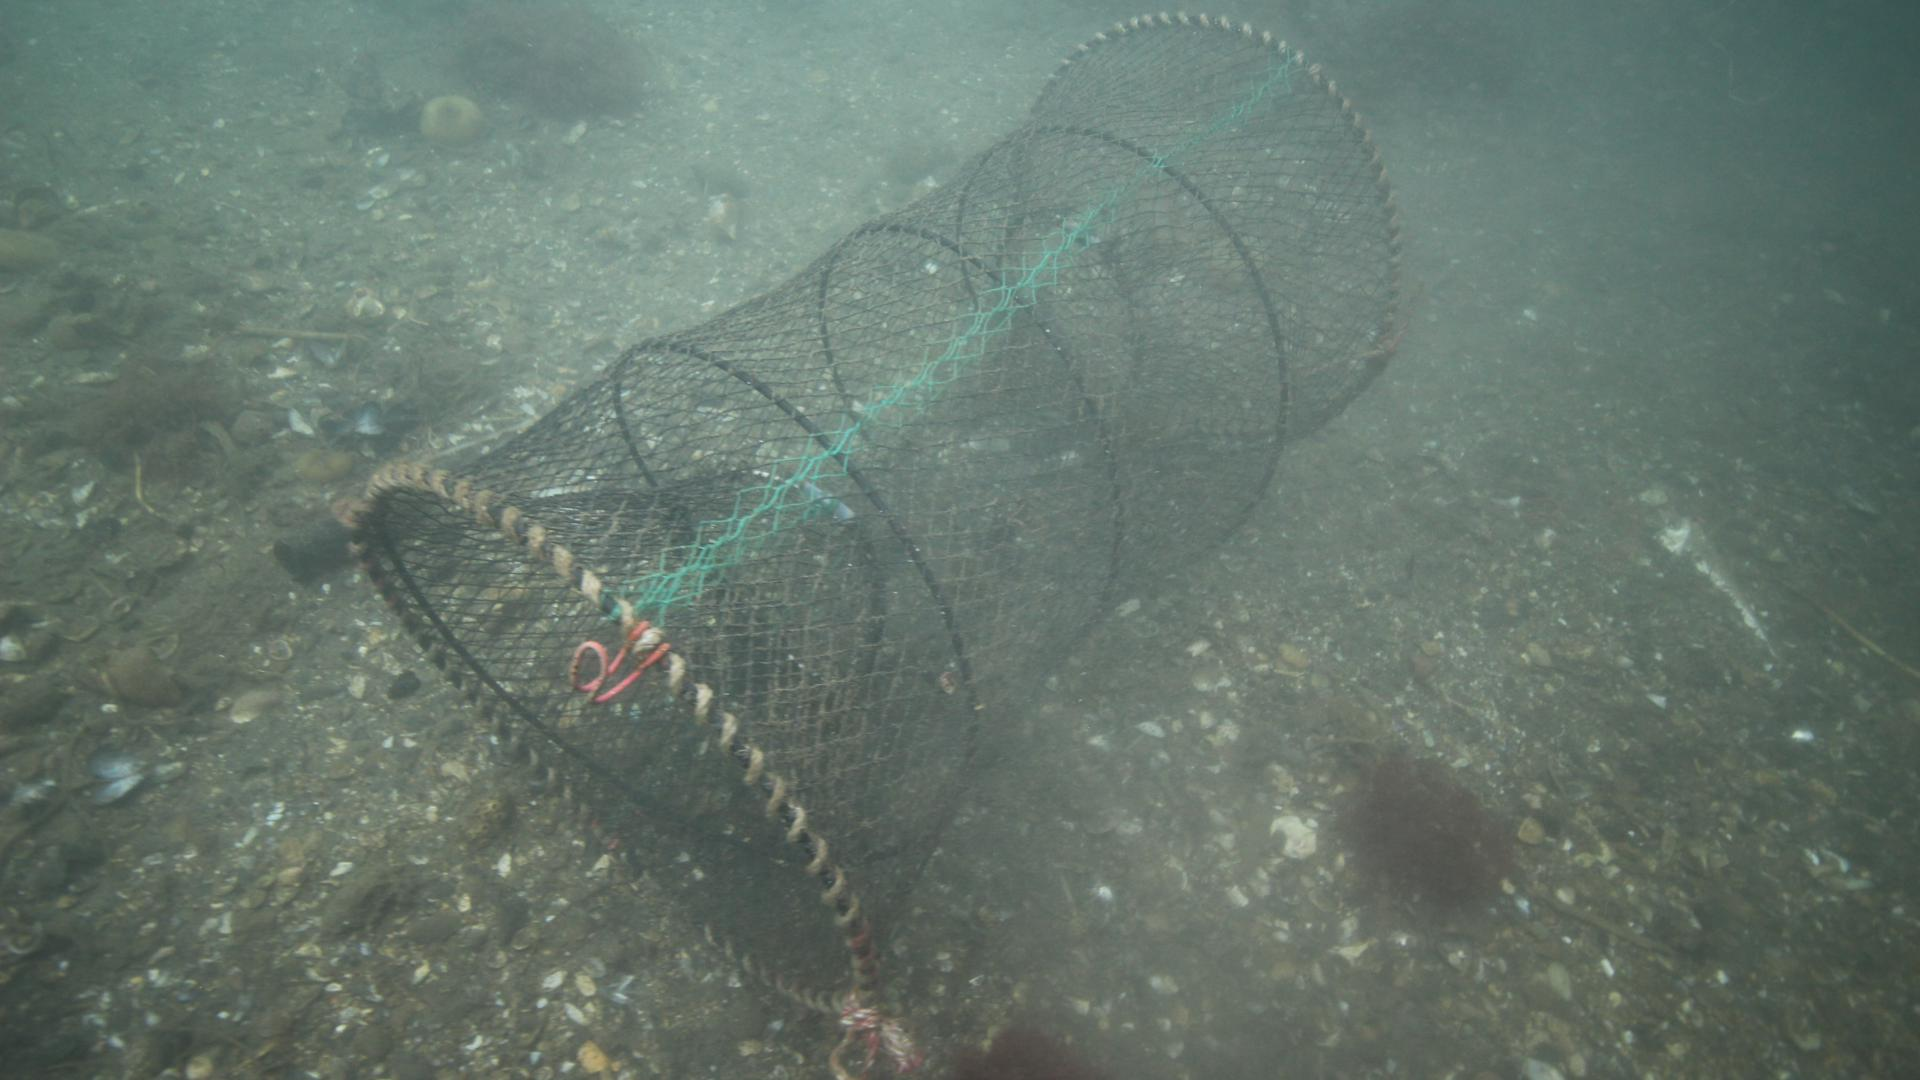spring fish trap: (347, 11, 1403, 1027)
